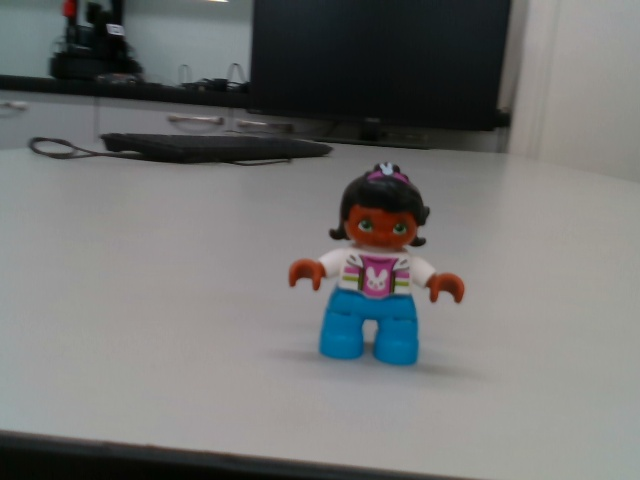people: (287, 161, 467, 369)
